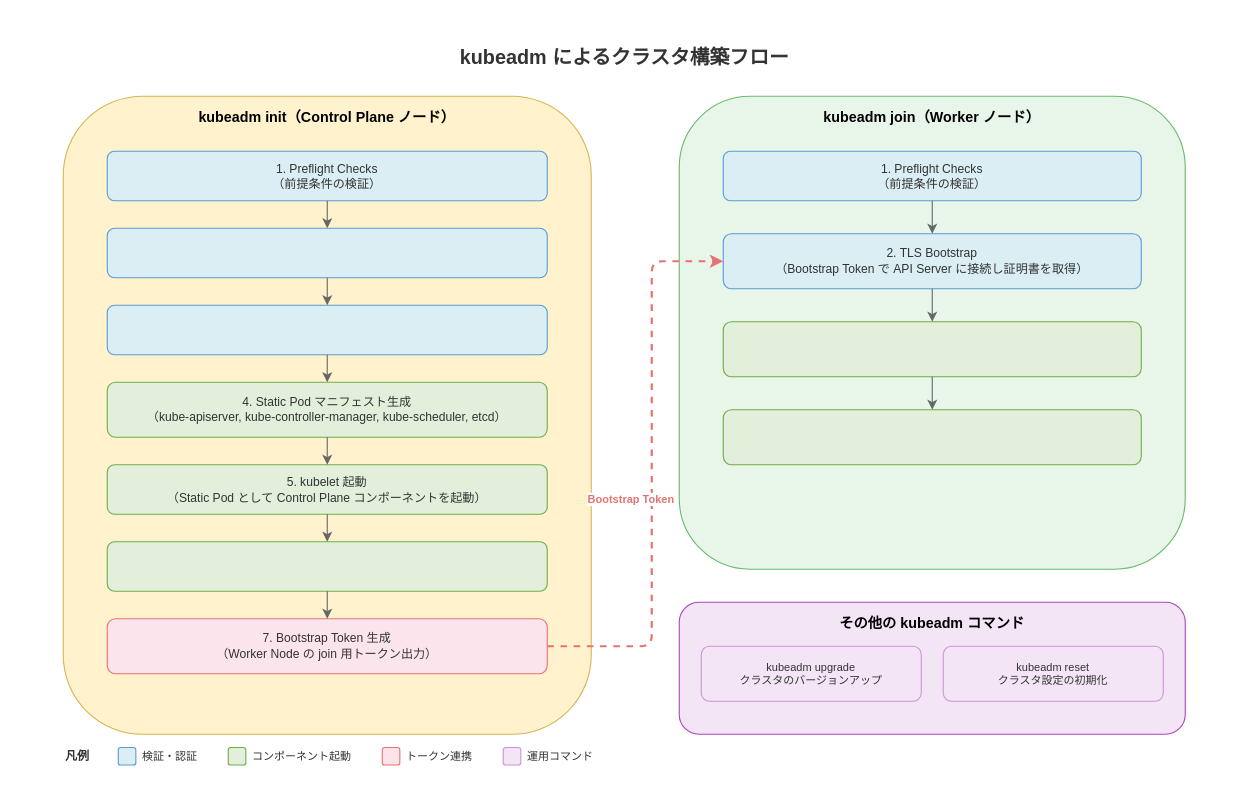
Image size: 1247x807. Some labels were removed from this diagram. The centre of each missing label's shape, as x and y in pixels:
"2. 証明書の生成 （CA, API Server, kubelet 等の TLS 証明書）" belongs at (326,252).
"3. kubeconfig ファイルの生成 （admin.conf, kubelet.conf, scheduler.conf 等）" belongs at (326,329).
"3. kubelet 設定の取得 （Control Plane から kubelet の設定を取得し適用）" belongs at (931,349).
"4. kubelet 起動 （Worker Node として kubelet を起動しクラスタに参加）" belongs at (931,437).
"6. アドオンのインストール （CoreDNS, kube-proxy）" belongs at (326,566).
